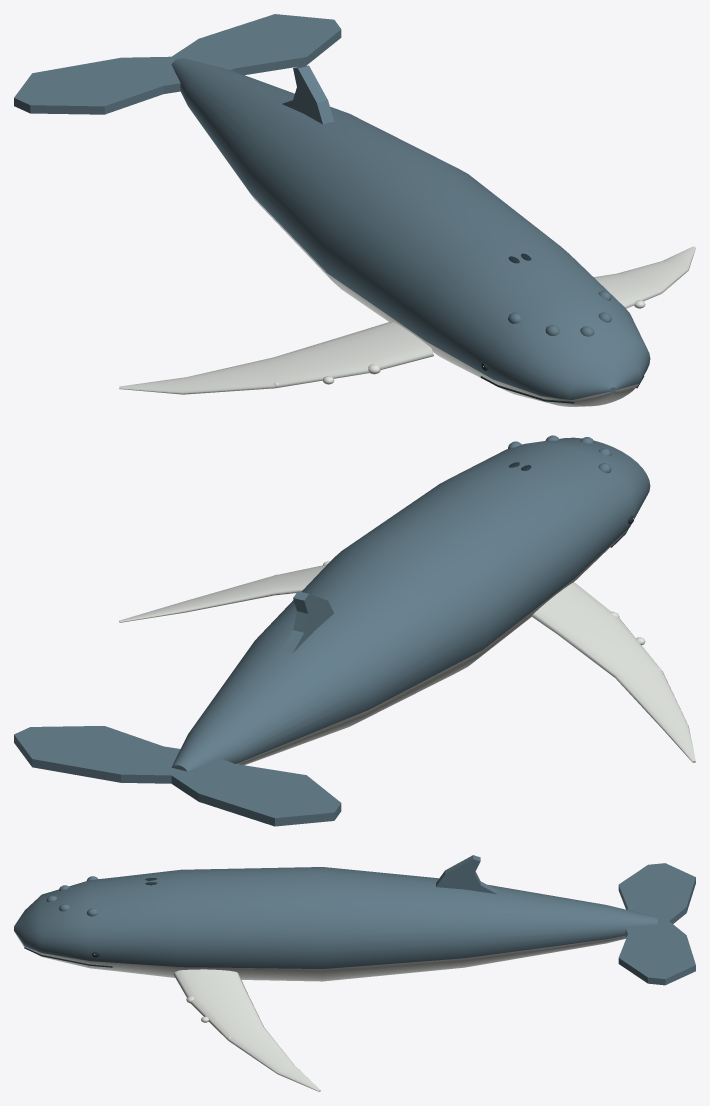
File: whale_humpback.glb
3 renders of one model, top to bottom at view 1: azimuth 30°, elevation 25°; view 2: azimuth 150°, elevation 25°; view 3: azimuth 270°, elevation 25°, orthographic. The views are drawn at different scales.
Visible parts, largest first — view 1: Humpback continuous body, Humpback horizontal tail flukes, Humpback long pale pectoral -1, Humpback long pale pectoral 1, Humpback dorsal hump and fin; view 2: Humpback continuous body, Humpback horizontal tail flukes, Humpback long pale pectoral -1, Humpback long pale pectoral 1, Humpback dorsal hump and fin; view 3: Humpback continuous body, Humpback horizontal tail flukes, Humpback long pale pectoral 1, Humpback dorsal hump and fin.
Part boxes in pixels (x1=…): Humpback continuous body: x1=171, y1=58, x2=650, y2=406; Humpback horizontal tail flukes: x1=14, y1=14, x2=341, y2=114; Humpback long pale pectoral -1: x1=119, y1=321, x2=433, y2=394; Humpback long pale pectoral 1: x1=594, y1=246, x2=695, y2=308; Humpback dorsal hump and fin: x1=282, y1=65, x2=334, y2=124; Humpback continuous body: x1=171, y1=437, x2=650, y2=771; Humpback horizontal tail flukes: x1=14, y1=726, x2=341, y2=826; Humpback long pale pectoral -1: x1=531, y1=583, x2=695, y2=762; Humpback long pale pectoral 1: x1=119, y1=564, x2=326, y2=622; Humpback dorsal hump and fin: x1=282, y1=591, x2=333, y2=652; Humpback continuous body: x1=14, y1=867, x2=657, y2=981; Humpback horizontal tail flukes: x1=618, y1=863, x2=695, y2=985; Humpback long pale pectoral 1: x1=173, y1=969, x2=320, y2=1091; Humpback dorsal hump and fin: x1=436, y1=855, x2=497, y2=894.
Size of the model in its own units: 8.71 by 2.54 by 12.02.
